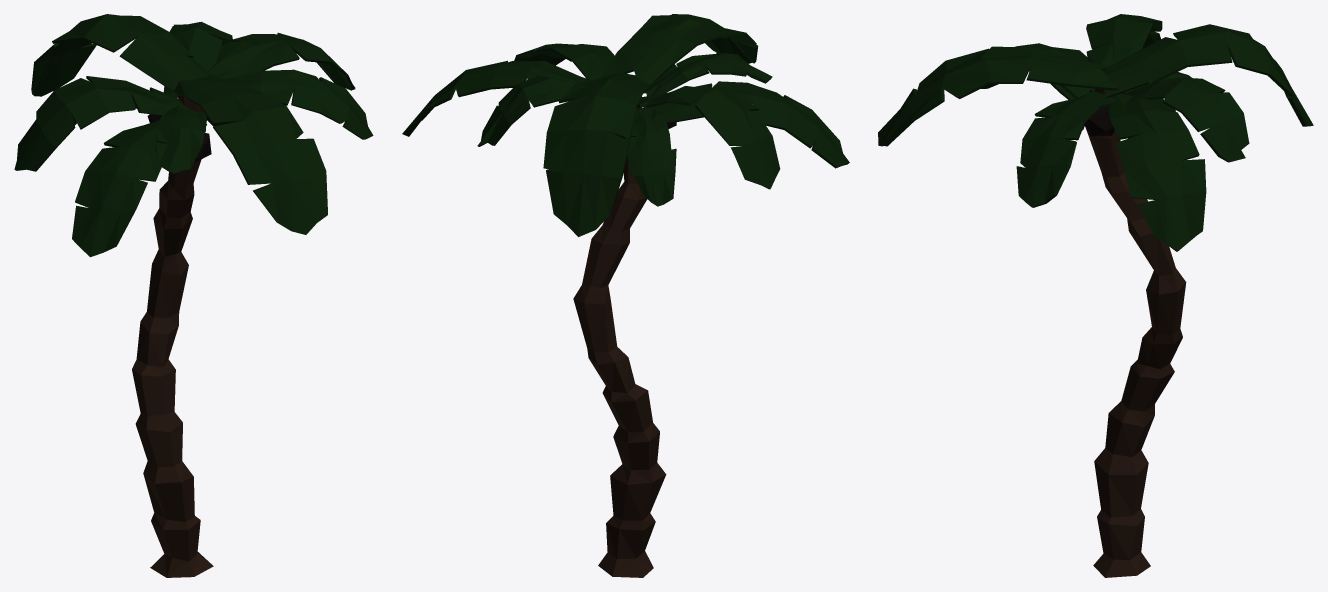
Rendered from palm_tree_1.obj.
3 views of the same model, side by side, from view 1: azimuth 30°, elevation 25°; view 2: azimuth 150°, elevation 25°; view 3: azimuth 270°, elevation 25° (orthographic). The views are drawn at different scales.
Visible parts, largest first — view 1: palm_tree_1_leaves, palm_tree_1_trunk; view 2: palm_tree_1_leaves, palm_tree_1_trunk; view 3: palm_tree_1_leaves, palm_tree_1_trunk, palm_tree_1_coconuts.
Part boxes in pixels (bbox=[...]): palm_tree_1_leaves: bbox=[14, 14, 373, 257]; palm_tree_1_trunk: bbox=[132, 95, 213, 577]; palm_tree_1_leaves: bbox=[402, 14, 849, 236]; palm_tree_1_trunk: bbox=[573, 96, 666, 577]; palm_tree_1_leaves: bbox=[878, 14, 1313, 251]; palm_tree_1_trunk: bbox=[1085, 88, 1186, 577]; palm_tree_1_coconuts: bbox=[1082, 106, 1128, 138].
Bounding box in the file's own units: 4.95 × 6.83 × 5.13.
